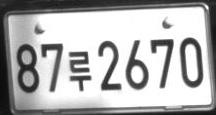0: (178, 36, 203, 88)
2: (96, 40, 122, 91)
6: (124, 39, 149, 90)
7: (149, 38, 174, 89), (40, 42, 63, 92)
8: (15, 42, 40, 93)
루: (67, 50, 92, 92)
